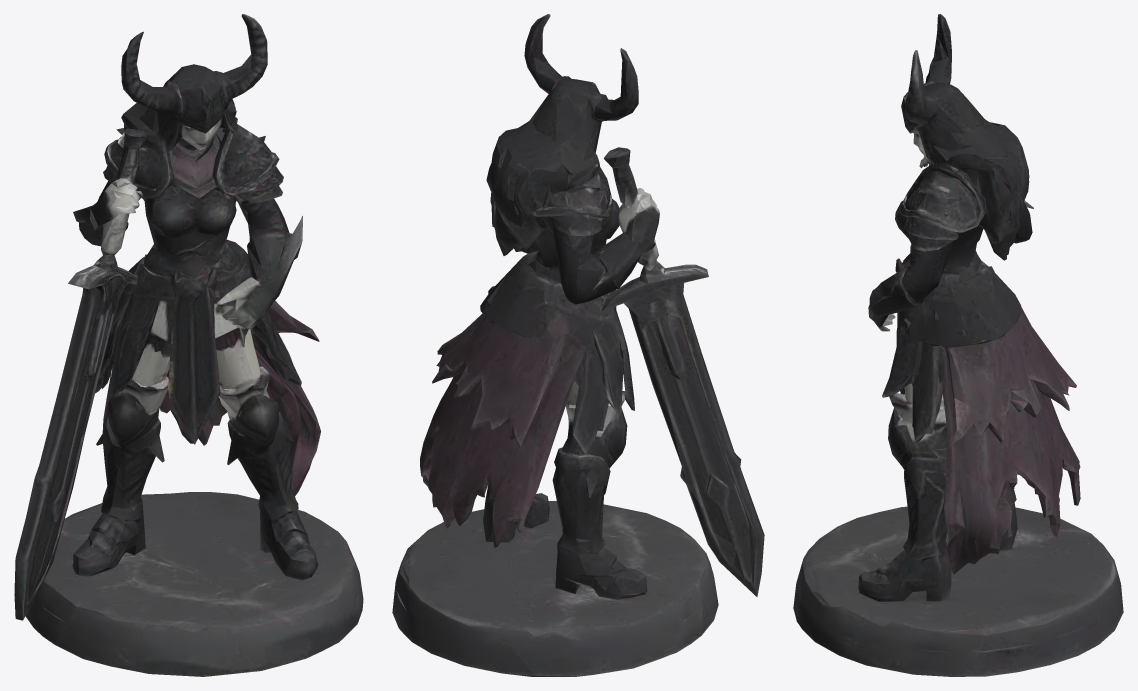
Rendered from hero_warrior.glb.
3 renders of one model, left to right at view 1: azimuth 30°, elevation 25°; view 2: azimuth 150°, elevation 25°; view 3: azimuth 270°, elevation 25°, orthographic. The views are drawn at different scales.
Bounding box in the file's own units: 1.14 × 1.9 × 0.9924.
Materials: 1 (1 with a texture image).
